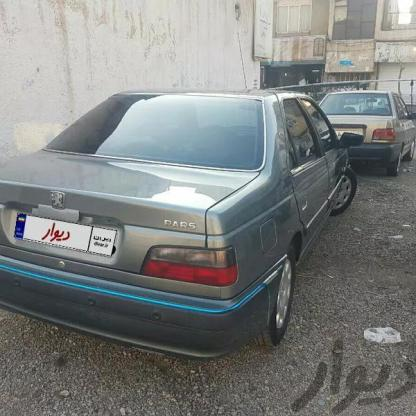Car: (0, 64, 347, 355), (302, 89, 416, 165)
